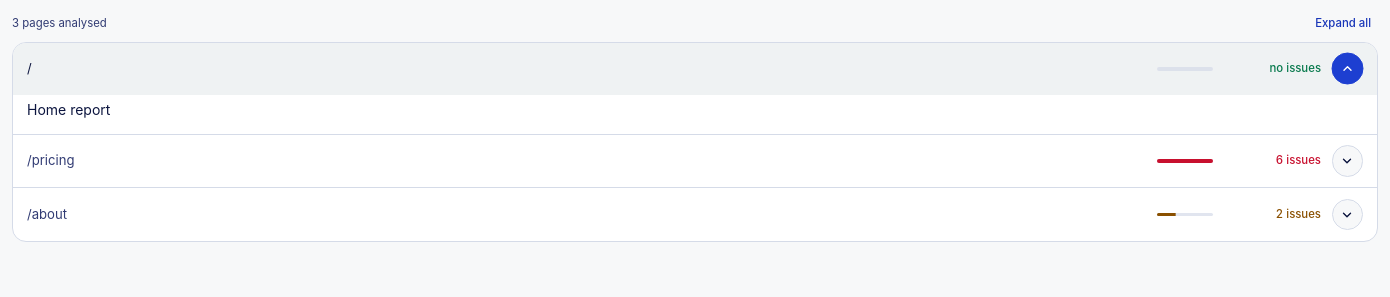
Test case: PageSections › closes again on a second click
What coordinates should you click on to do the following:
click the button "/pricing 6 issues"
I would click on:
 (51, 160)
Its box is [13, 135, 1377, 187].
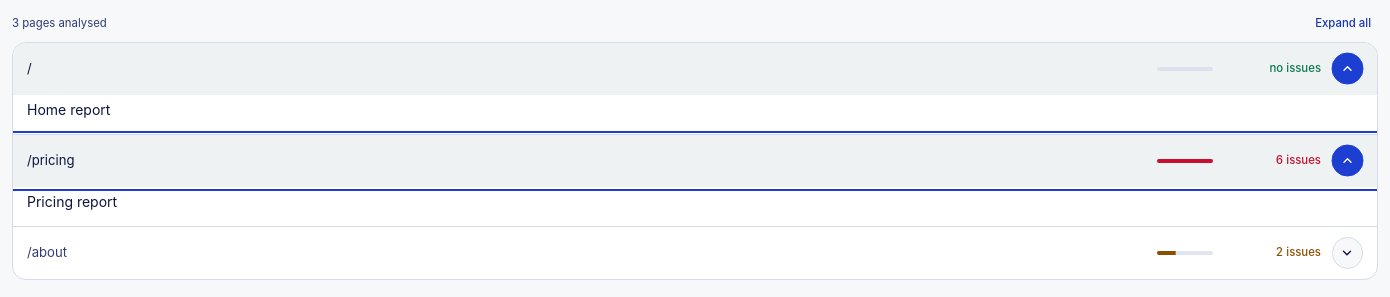
expect the text "Pricing report" is shown: met, box [27, 193, 117, 210]
What coordinates should you click on to do the following:
click the button "/pricing 6 issues"
I would click on:
 (51, 160)
Its box is [13, 135, 1377, 187].
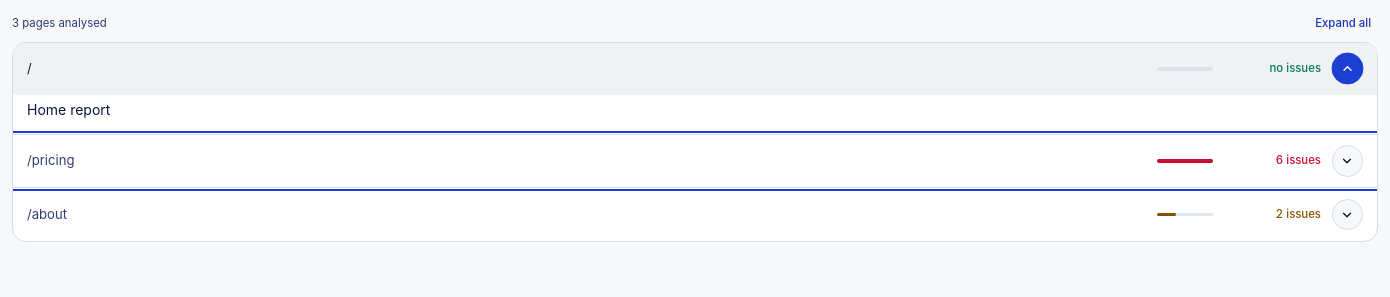
expect the text "Pricing report" is gone: met
